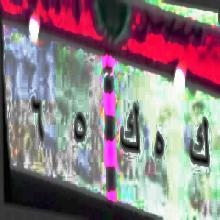5: (68, 100, 91, 148)
6: (30, 94, 47, 152)
haa: (153, 121, 167, 175)
kaaf: (187, 106, 211, 178), (118, 89, 140, 166)
